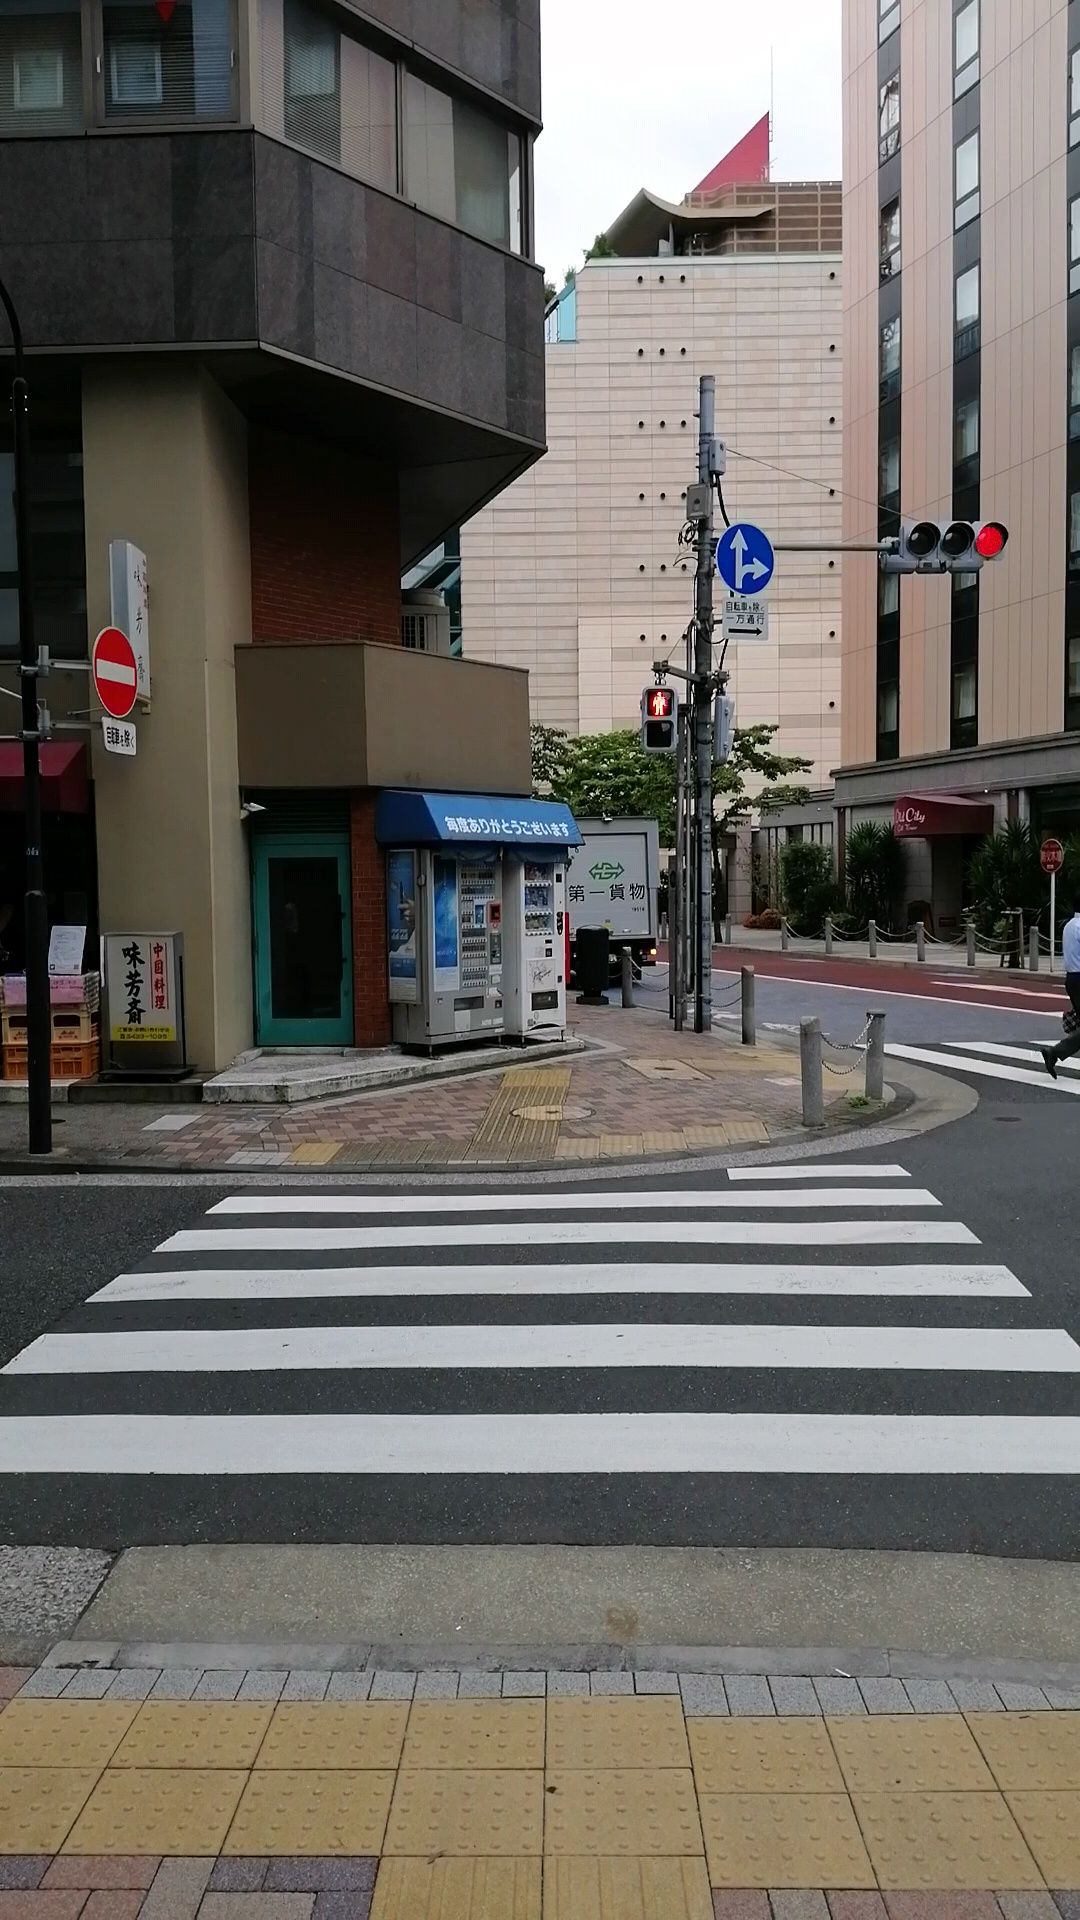red: (640, 688, 676, 752)
